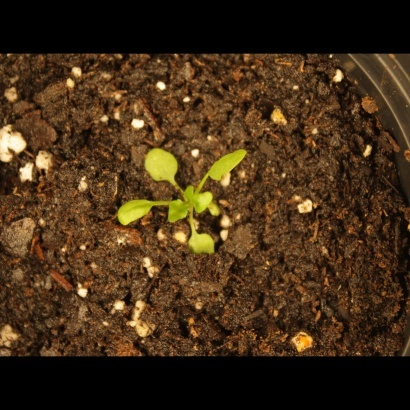leaf: (205, 141, 249, 185), (141, 143, 180, 185), (111, 195, 156, 229), (180, 228, 224, 261), (164, 200, 189, 226), (195, 191, 219, 218), (180, 181, 203, 204)
